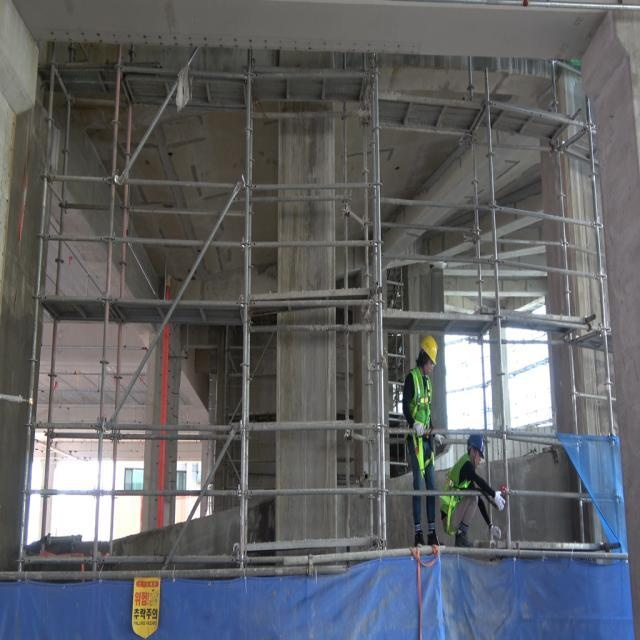Arnes_seguridad: (405, 370, 436, 478), (440, 457, 472, 535)
